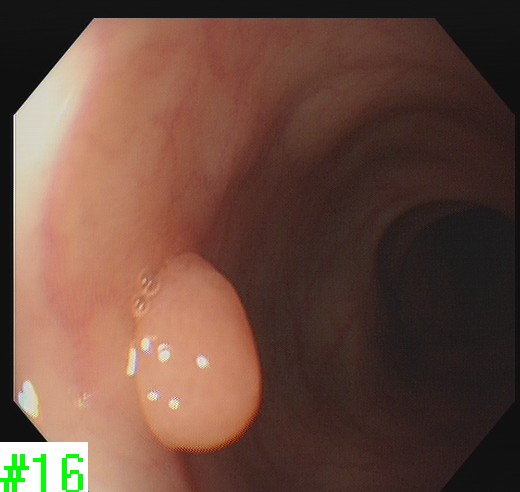others: (128, 249, 266, 454)
